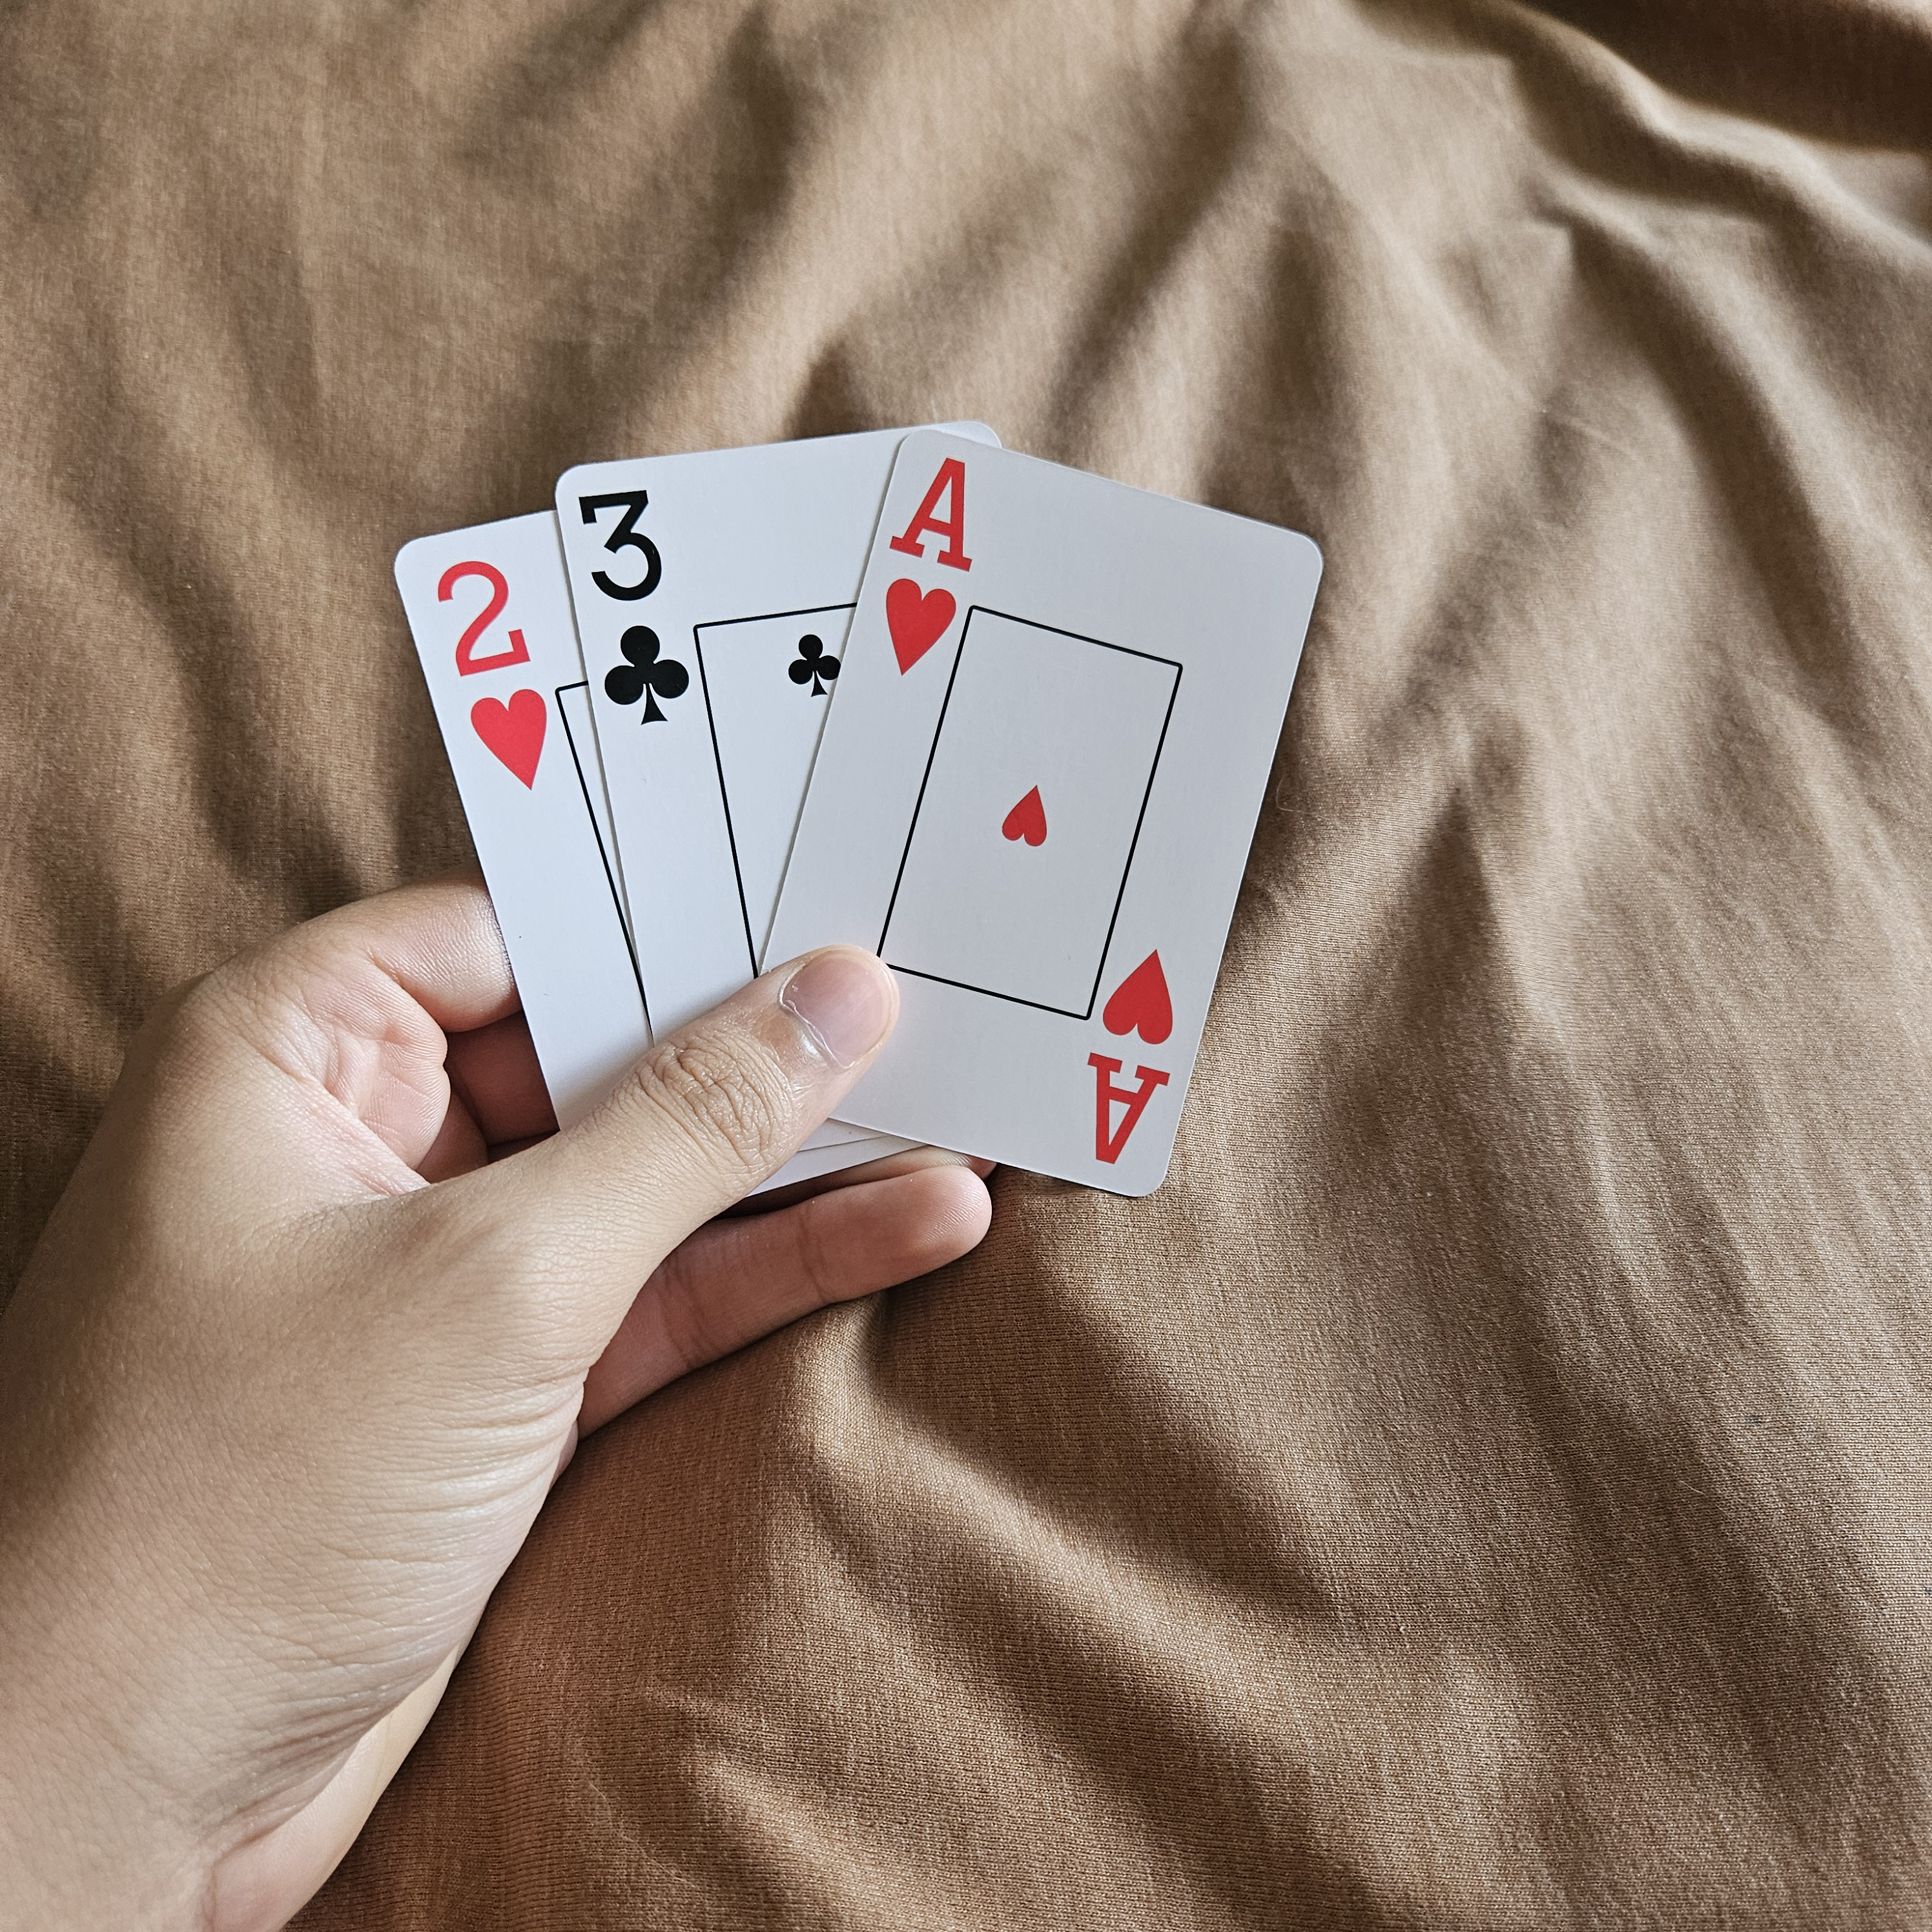2C: (421, 543, 577, 810)
3P: (564, 478, 717, 732)
AO: (870, 439, 996, 695), (1072, 936, 1191, 1178)
